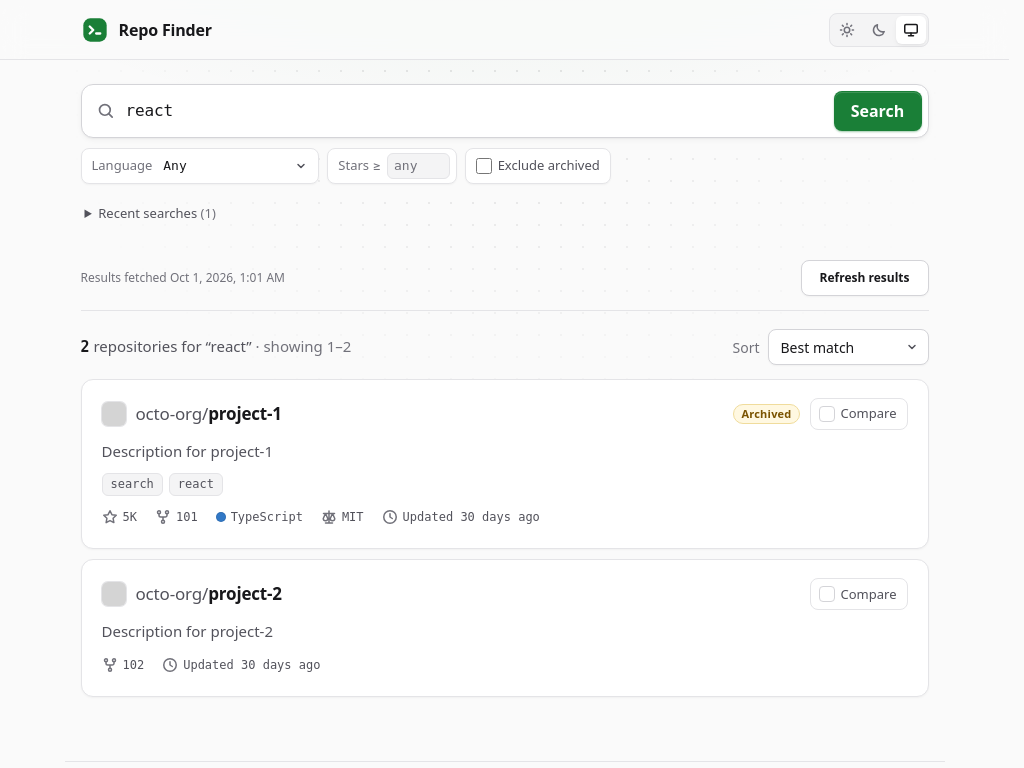
compare selection › requires two selections before comparing, then compares fields with unknown values explicit
Expected: the heading "2 repositories for “react” · showing 1–2" is shown, top-left (80, 335), bottom-right (351, 359)
Step 1. Click the 1st checkbox labelled "Compare" → [858, 414], box top-left (810, 398), bottom-right (908, 430)
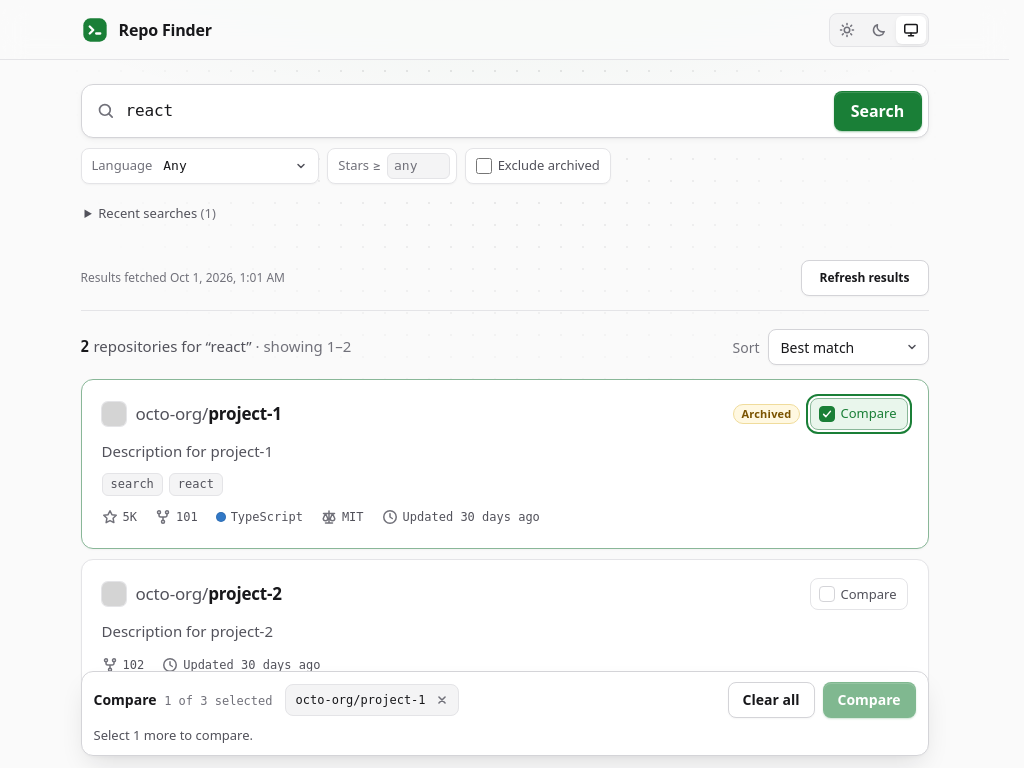
Step 2. Click the button named "Compare selected repositories" → [869, 700], box top-left (822, 682), bottom-right (916, 718)
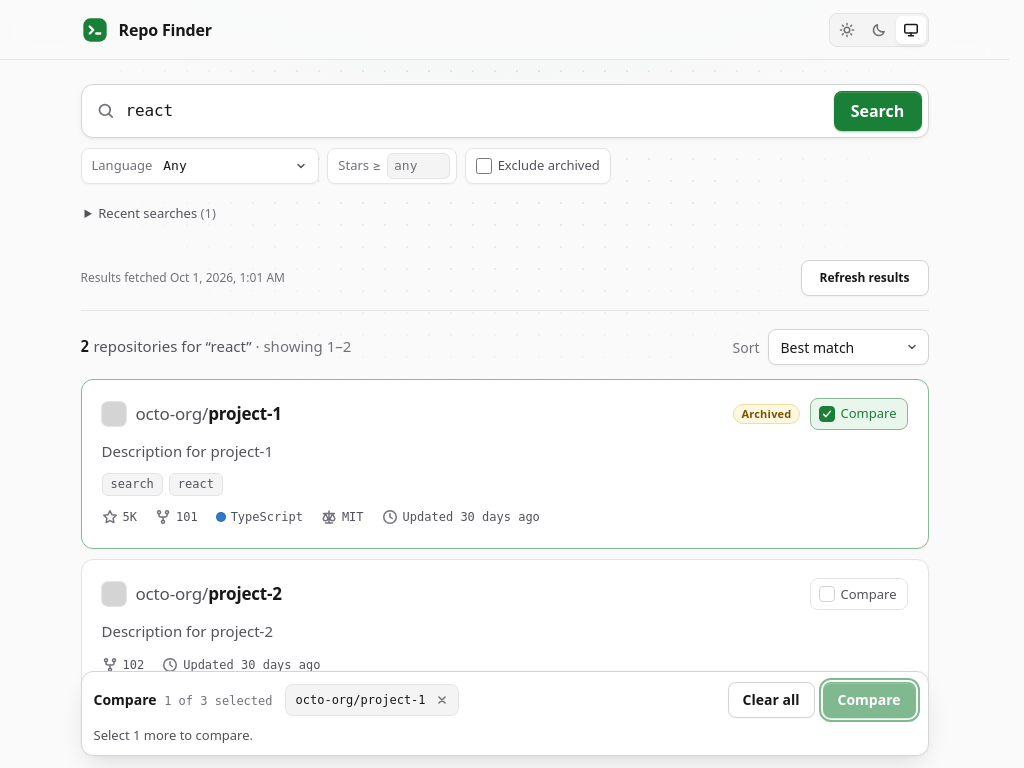
Step 3. Click the 2nd checkbox labelled "Compare" → [858, 594], box top-left (810, 578), bottom-right (908, 610)
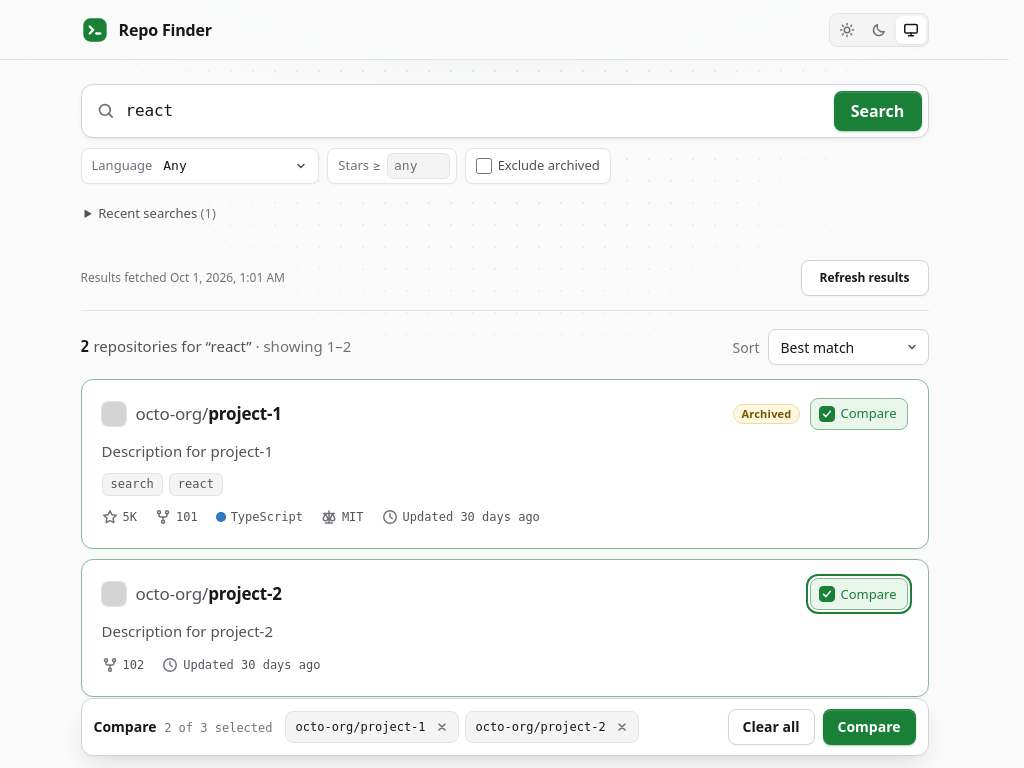
Step 4. Click the button named "Compare selected repositories" → [869, 727], box top-left (822, 709), bottom-right (916, 745)
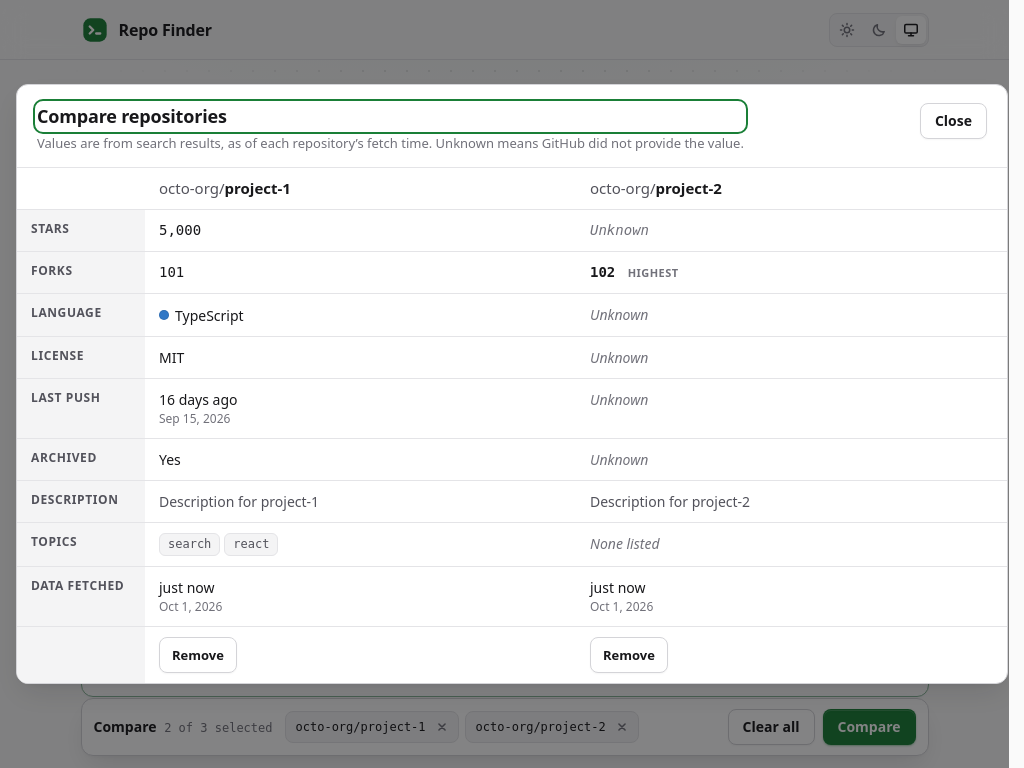
Now the column headings read "octo-org/project-1 (opens in a new tab)", "octo-org/project-2 (opens in a new tab)", in this order, box top-left (145, 168), bottom-right (576, 210); top-left (576, 168), bottom-right (1007, 210)
Now the row "Stars 5,000 Unknown" is shown, box top-left (17, 210), bottom-right (1007, 252)
Step 5. Click the button "Close" → [953, 121], box top-left (920, 103), bottom-right (987, 139)
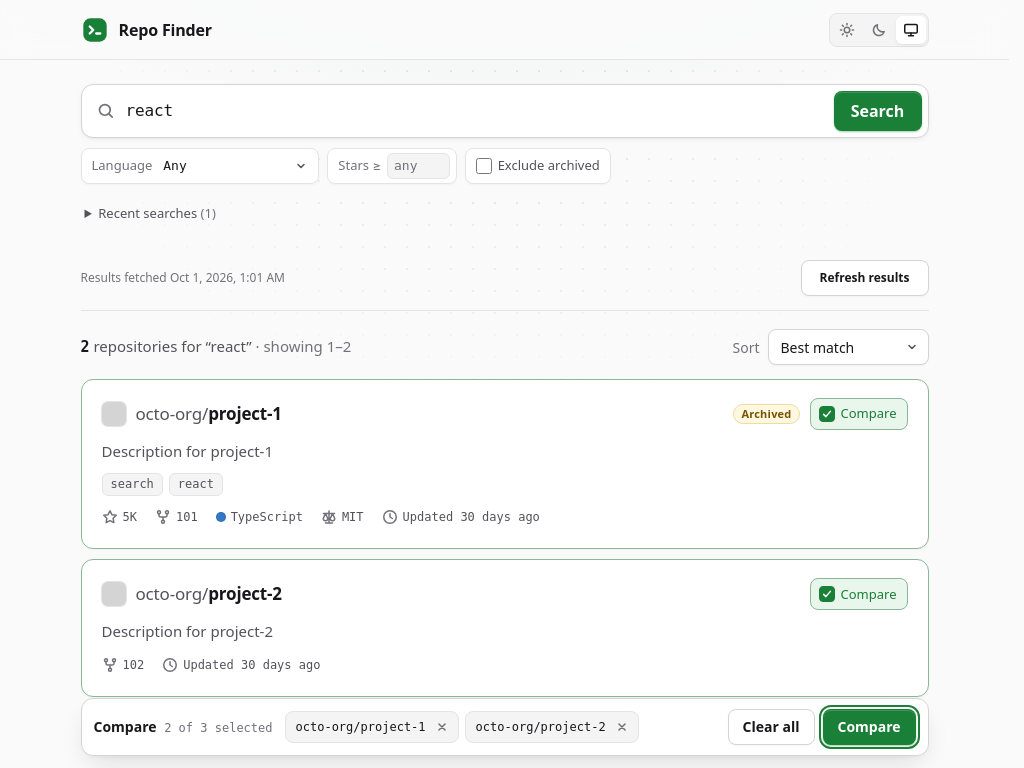
Now the dialog is gone
